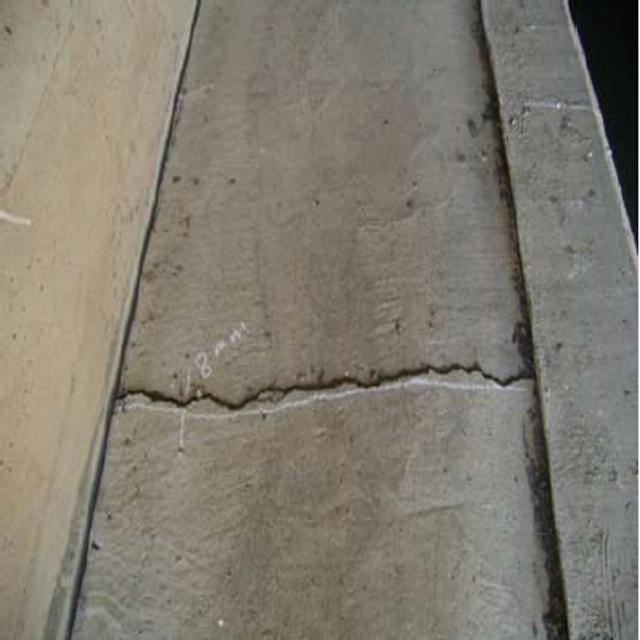crack: (93, 323, 557, 450)
